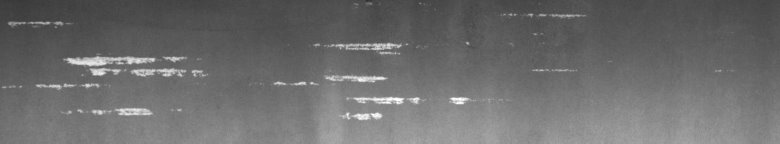kb: (4, 4, 587, 128)
